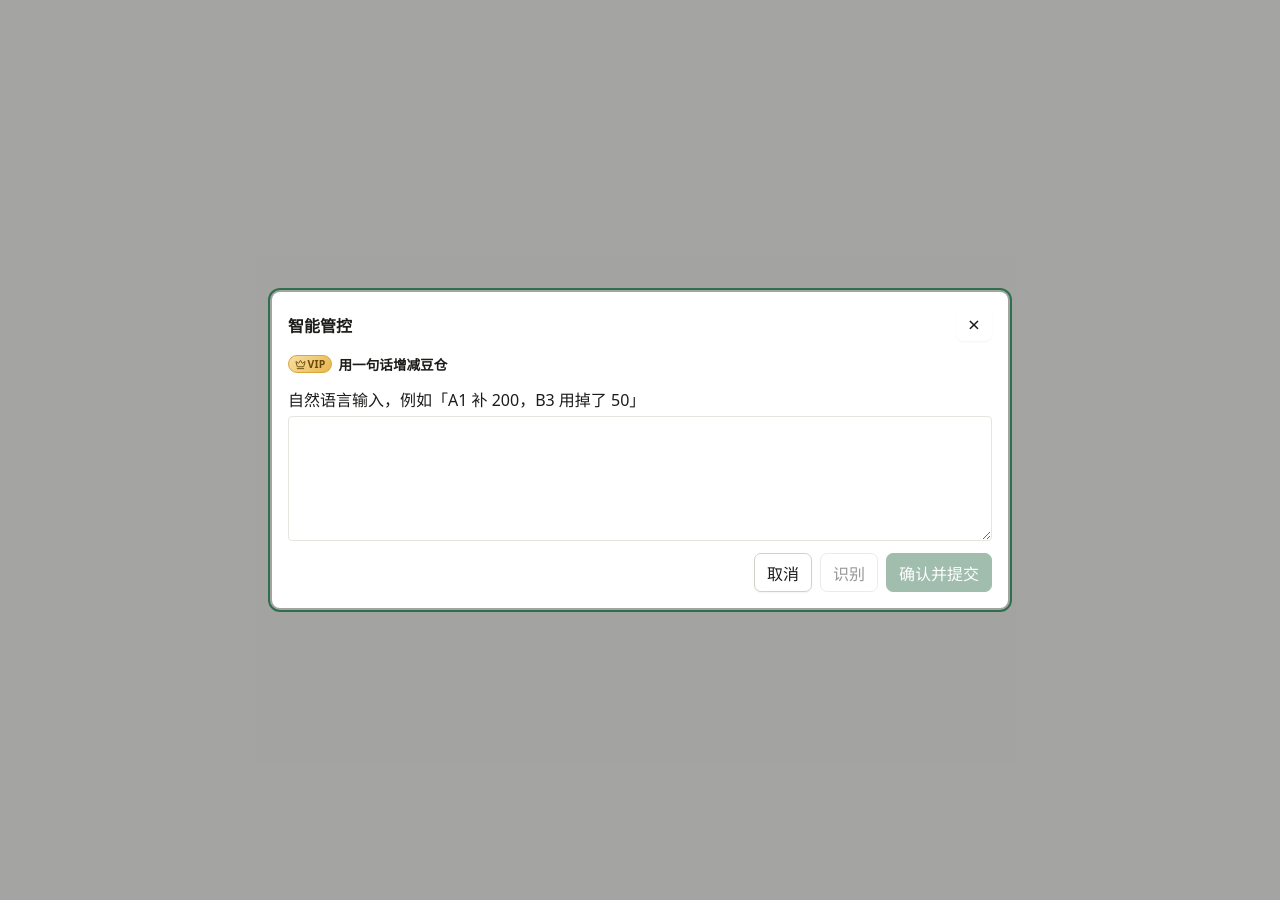
Test: SmartControlDialog › a row can be deleted
Type "A1 补 200，B3 用掉了 50" into the text box labelled "自然语言输入" at (640, 478), box [288,416,992,541]
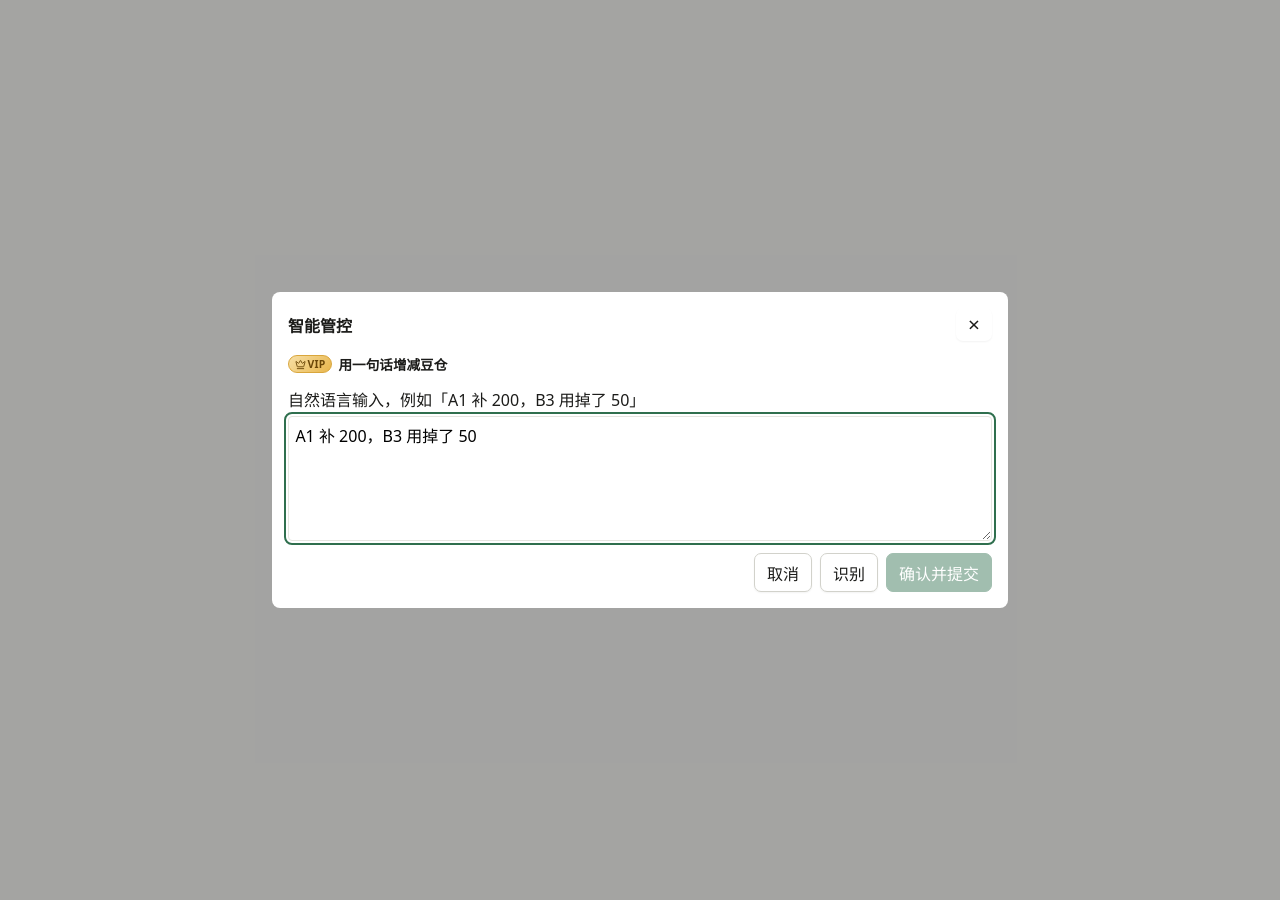
Click the button "识别" at (849, 573), box [820,553,878,592]
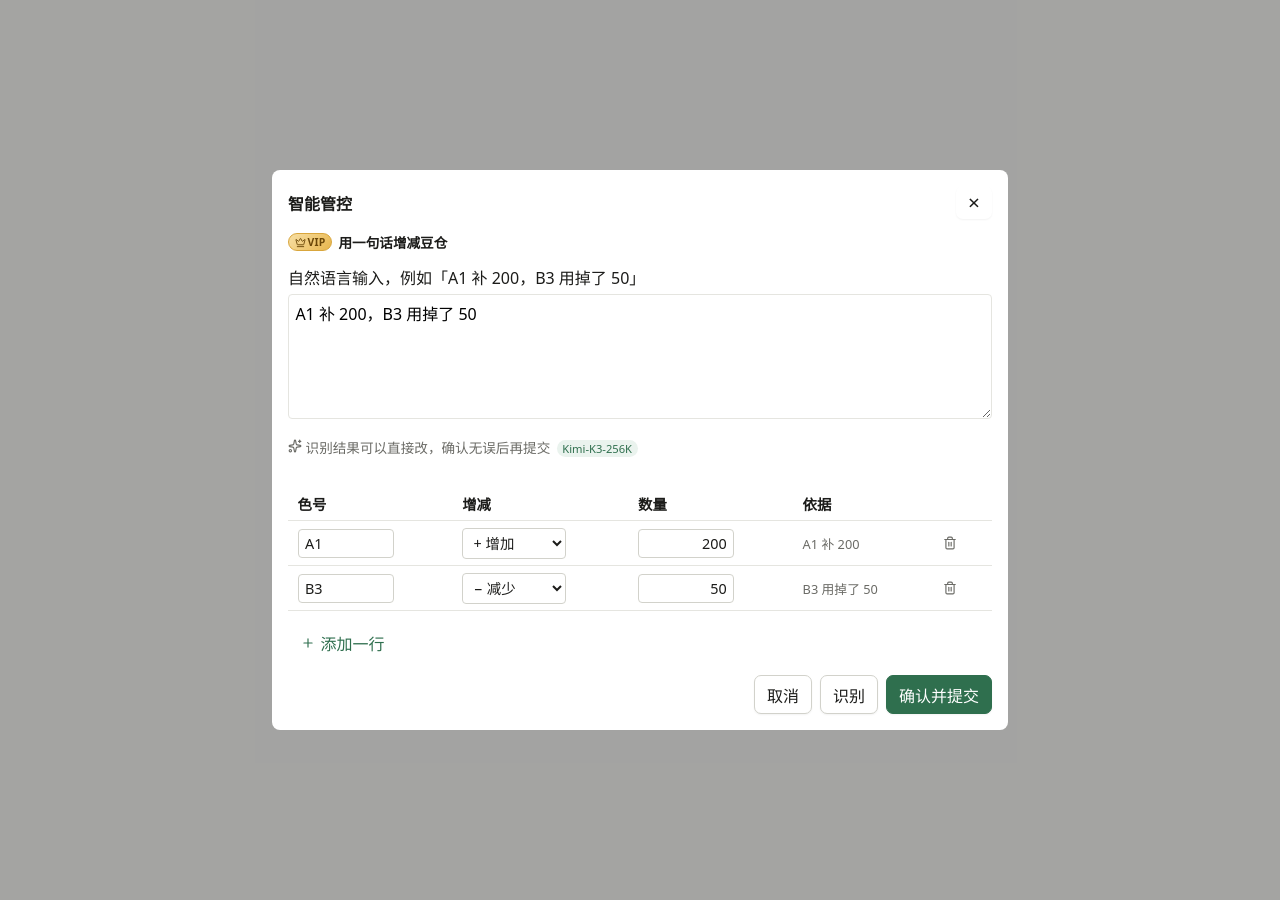
Check: the number of rows is 3, box [288,487,992,521]; [288,521,992,566]; [288,566,992,610]
Click the button named "删除第 2 行" at (950, 588), box [938,575,963,601]
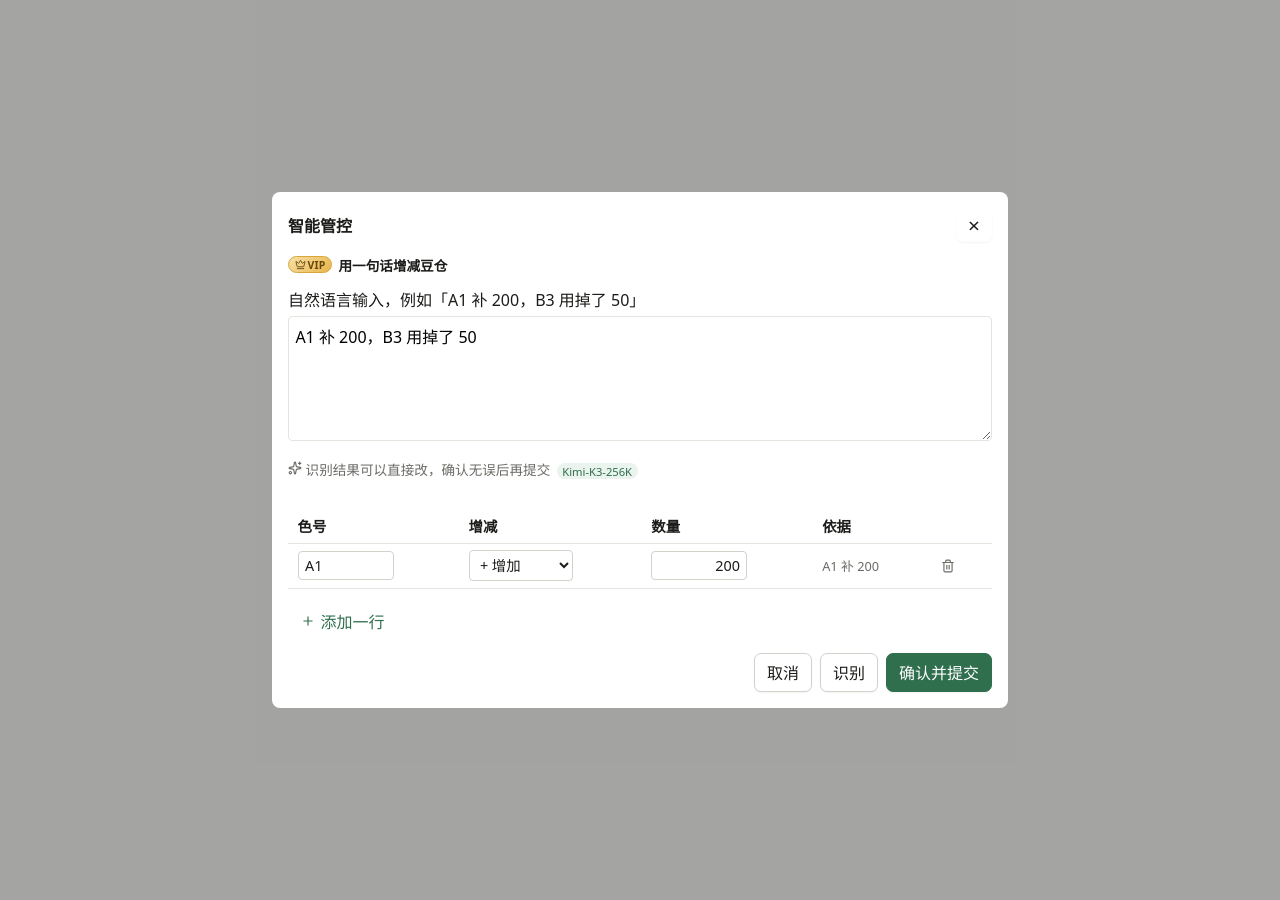
Check: the number of rows is 2, box [288,509,992,543]; [288,543,992,588]
